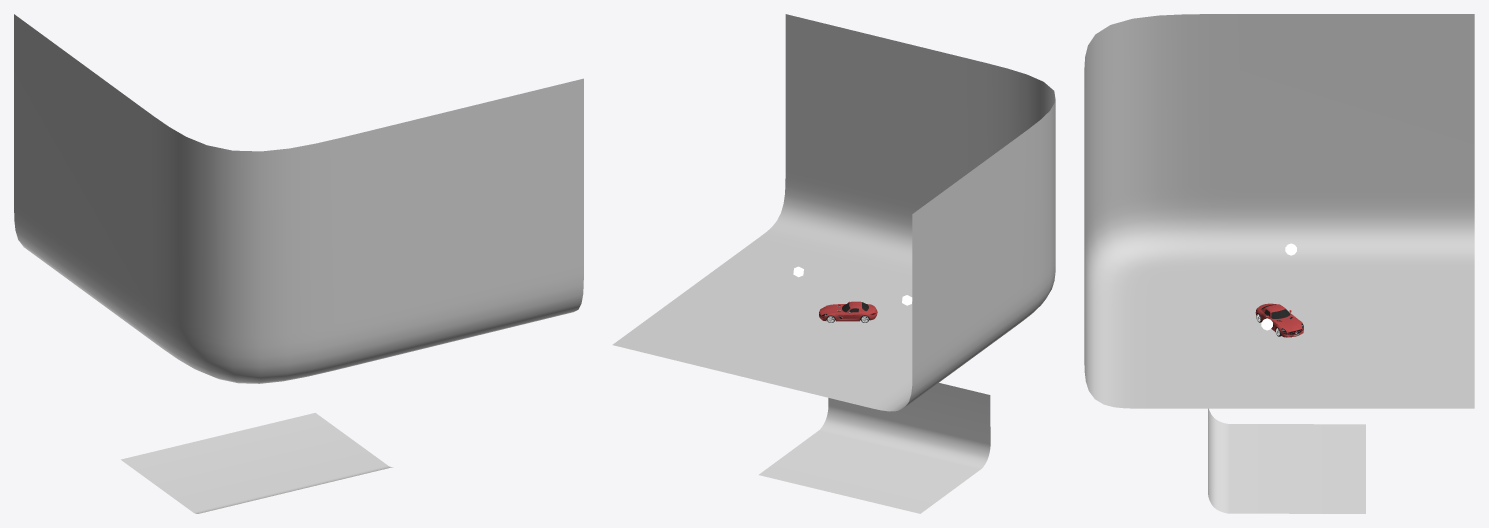
Rendered from car2.gltf.
3 renders of one model, left to right at view 1: azimuth 30°, elevation 25°; view 2: azimuth 150°, elevation 25°; view 3: azimuth 270°, elevation 25°, orthographic. The views are drawn at different scales.
Visible parts, largest first — view 1: Plane.001, Plane; view 2: Plane.001, Plane, Full Body.008; view 3: Plane.001, Plane, Full Body.008.
Part boxes in pixels (x1,y1,x2,y2): Plane.001: (14,14,583,383); Plane: (121,413,392,513); Plane.001: (612,14,1055,411); Plane: (759,383,990,513); Full Body.008: (819,301,877,321); Plane.001: (1084,14,1474,408); Plane: (1208,408,1365,513); Full Body.008: (1255,303,1303,337).
Size of the model in its own units: 57.74 by 63.48 by 57.74.
18 materials, 1 textured.
